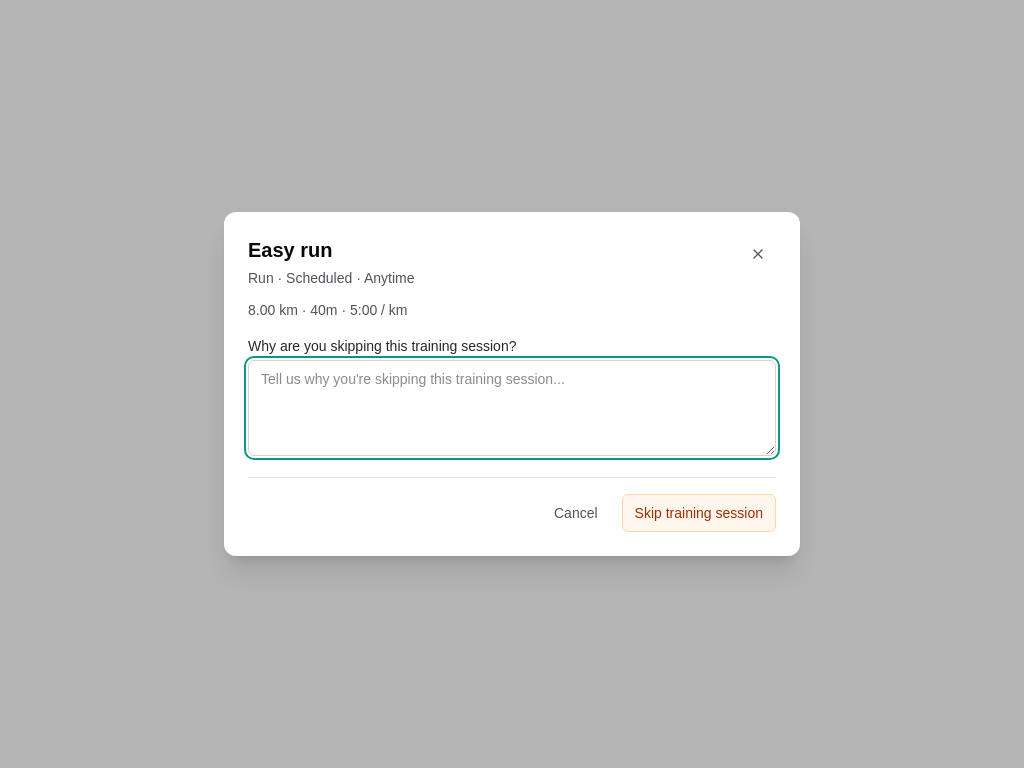
it: reports errors and prevents dismissal while skipping
The width and height of the screenshot is (1024, 768).
Type "Recovery" into the text box labelled "Why are you skipping this training session?" at (512, 408), box [248,360,776,456]
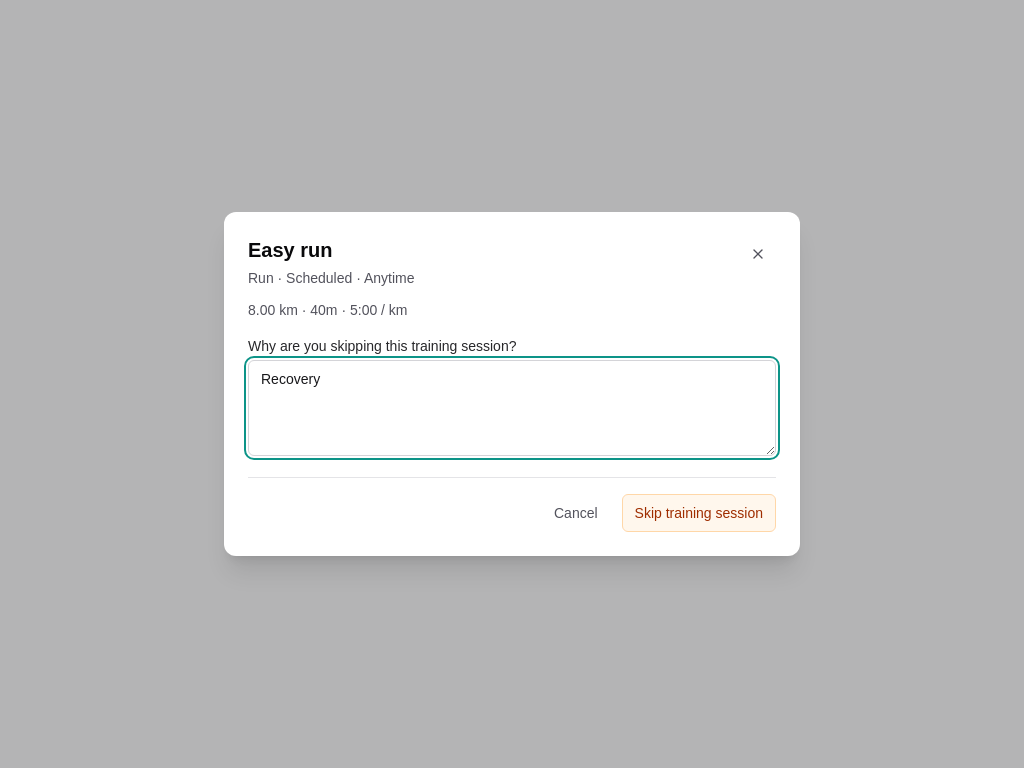
Click the button "Skip training session" at (699, 513), box [622,494,776,532]
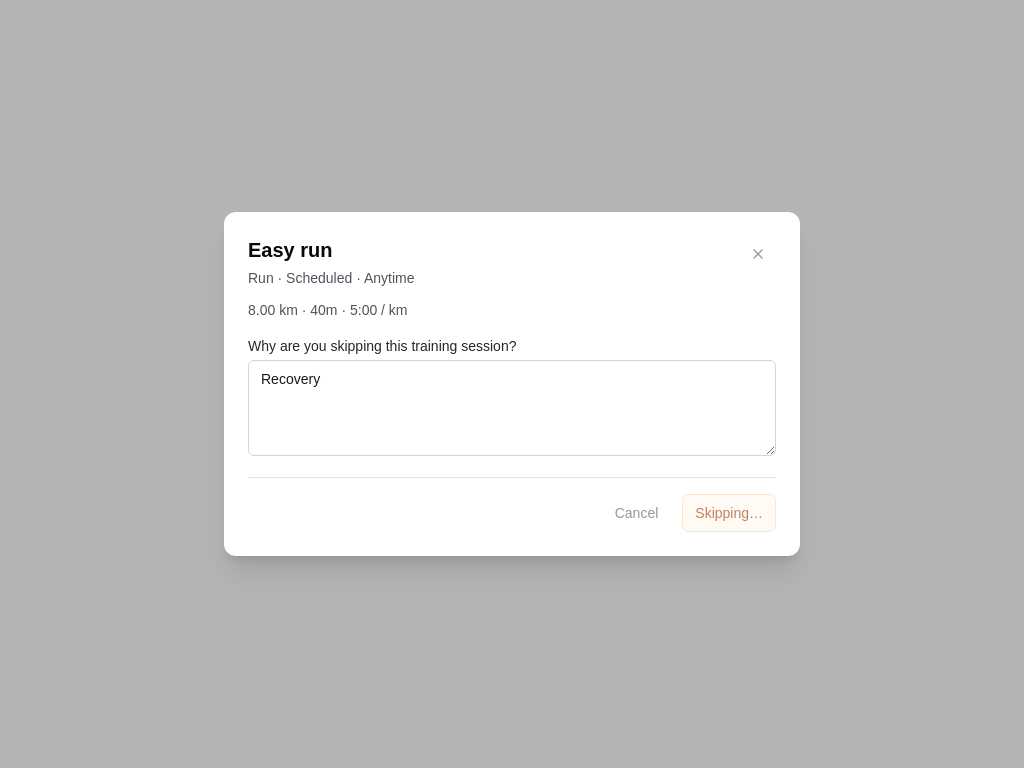
expect the button "Skipping…" is disabled: met, box [682,494,776,532]
expect the button named "Dismiss skip training session" is disabled: met
